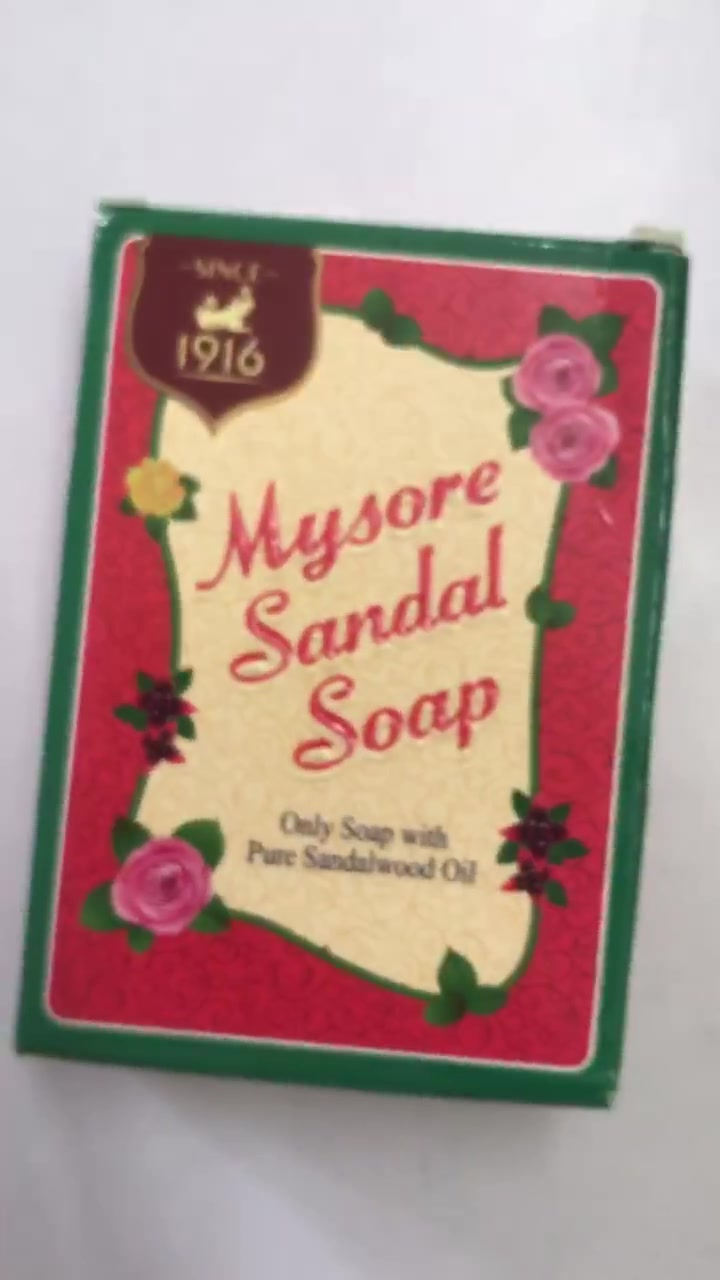mysore sandal soap: (76, 210, 610, 1107)
